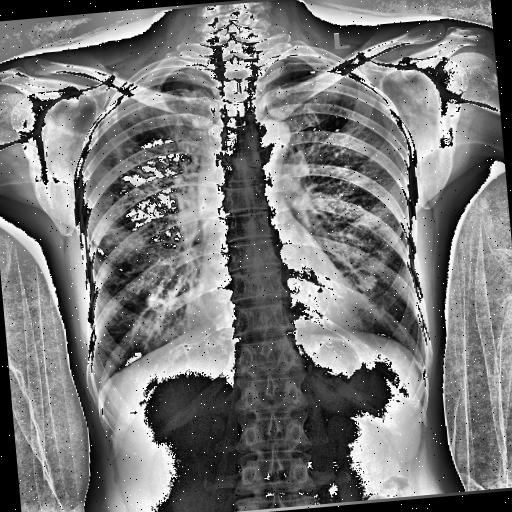0- Aortic enlargement: (194, 120, 300, 222)
10- Pleural effusion: (88, 373, 112, 398)
11- Pleural thickening: (88, 373, 112, 398)
13- Pulmonary fibrosis: (71, 93, 184, 206)
5- ILD: (82, 96, 219, 302), (304, 132, 408, 296)
8- Nodule-Mass: (357, 274, 377, 292), (358, 274, 378, 292)
9- Other lesion: (357, 274, 377, 292)
